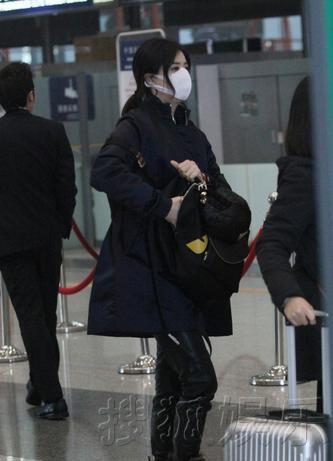OK: (154, 58, 197, 101)
